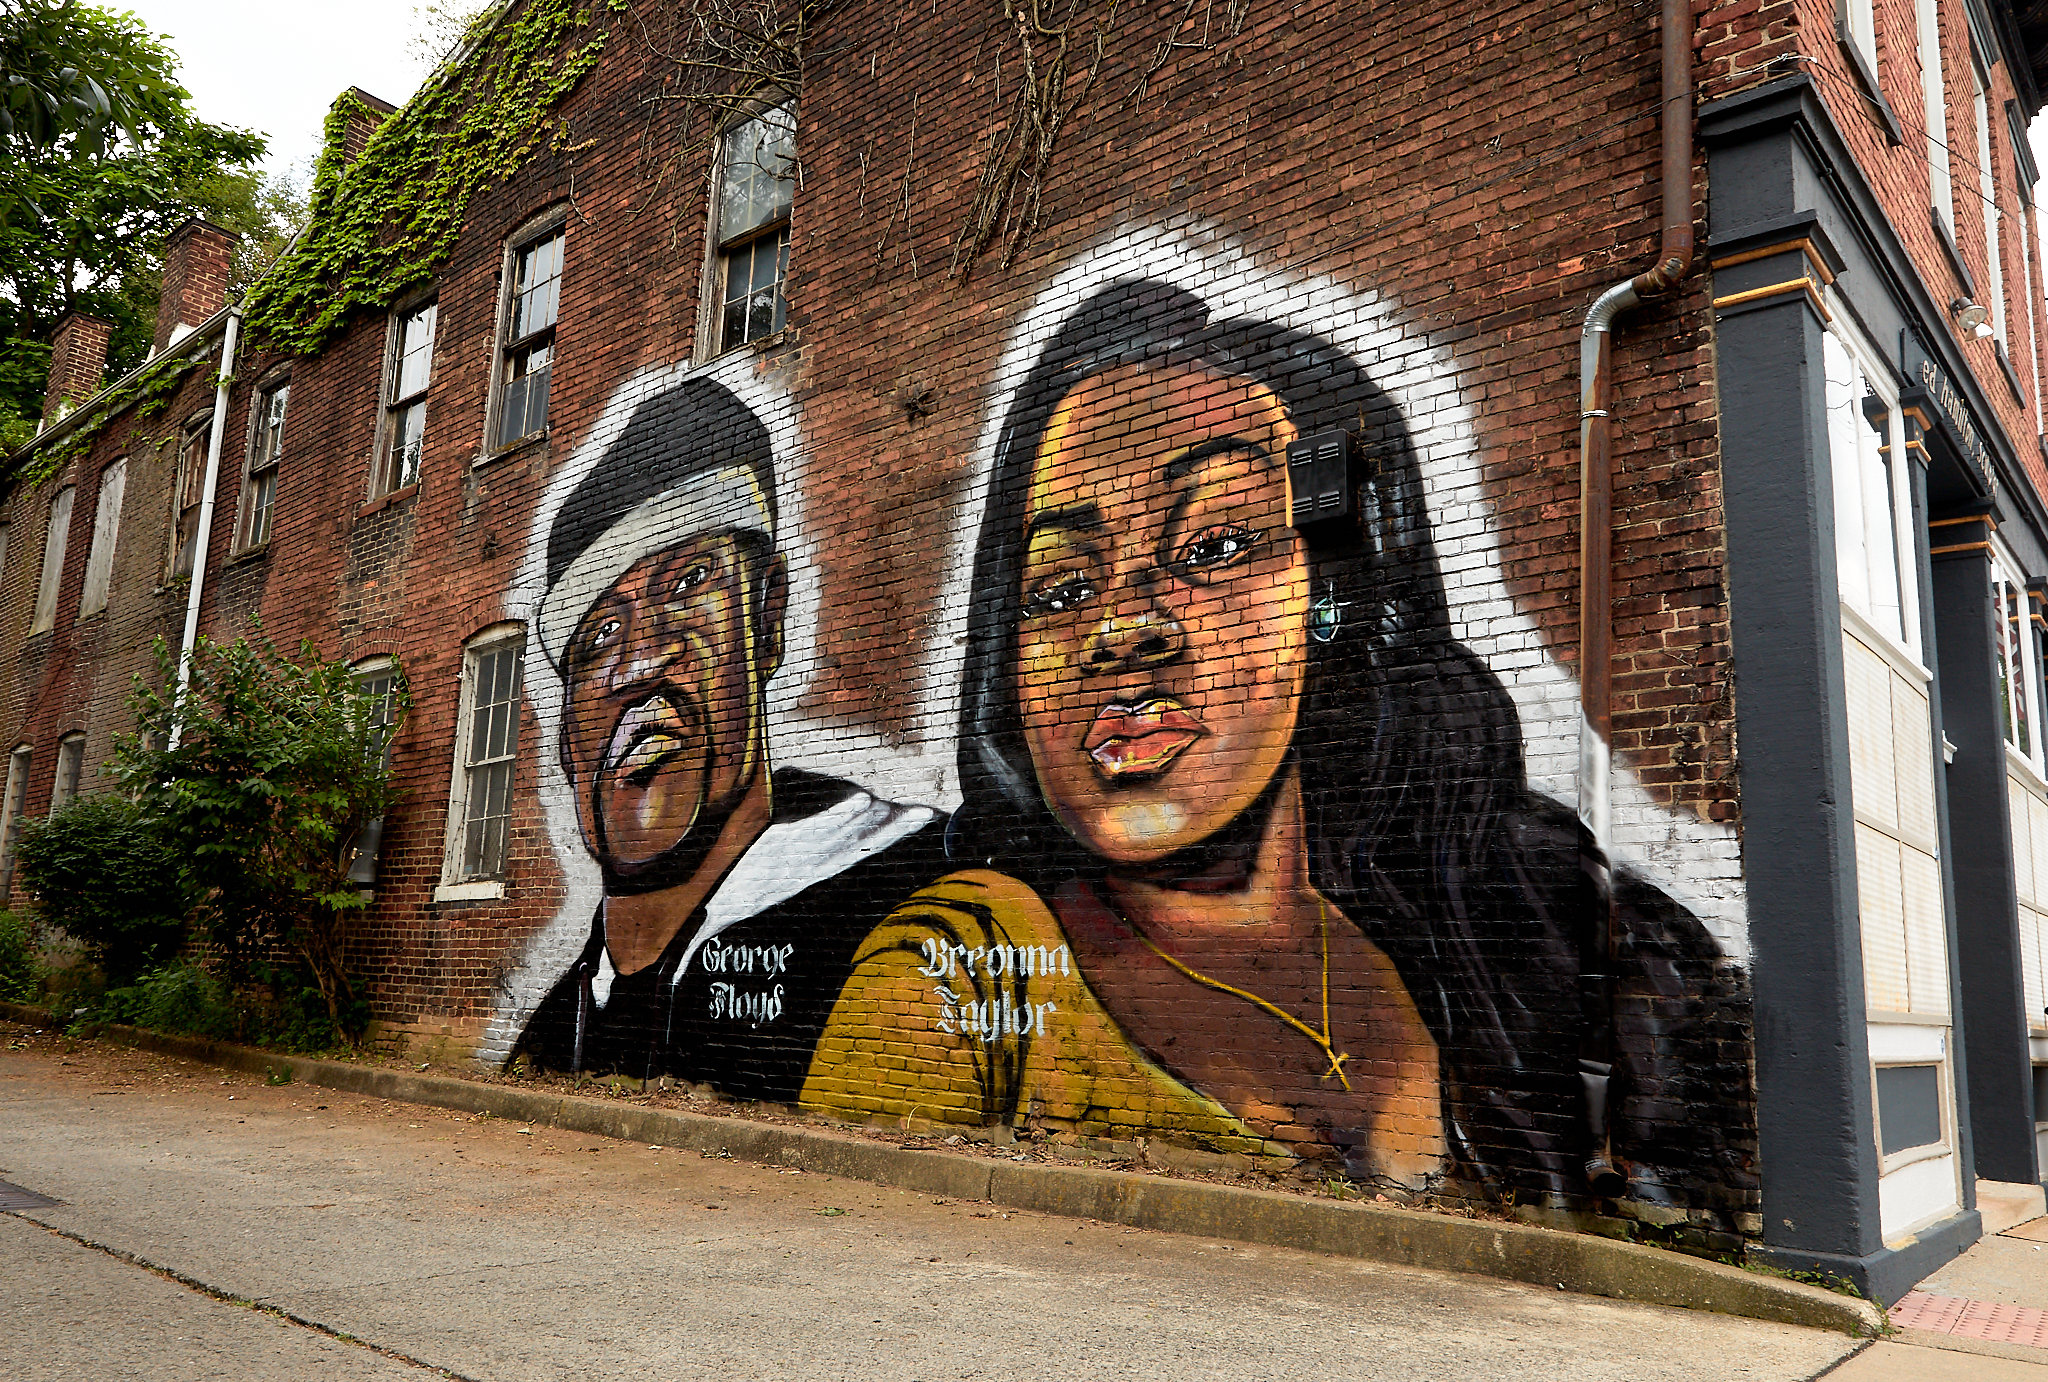graphite: (870, 333, 1750, 1223), (557, 389, 850, 1097)
